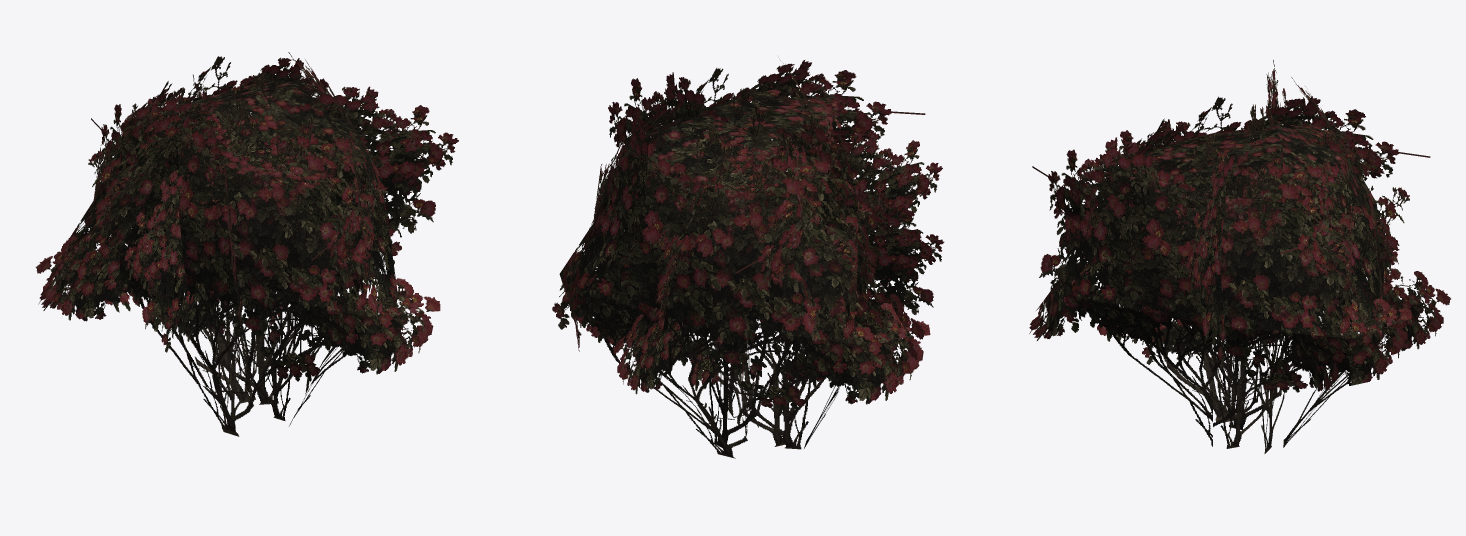
File: fern_2.glb
3 views of the same model, side by side, from view 1: azimuth 30°, elevation 25°; view 2: azimuth 150°, elevation 25°; view 3: azimuth 270°, elevation 25° (orthographic). The views are drawn at different scales.
Visible parts, largest first — view 1: fern_2; view 2: fern_2; view 3: fern_2.
Part boxes in pixels (x1,y1,x2,y2): fern_2: (35,52,458,436); fern_2: (552,60,944,458); fern_2: (1029,60,1450,453).
Size of the model in its own units: 1.38 by 1.22 by 1.44.
Materials: 1 (1 with a texture image).
